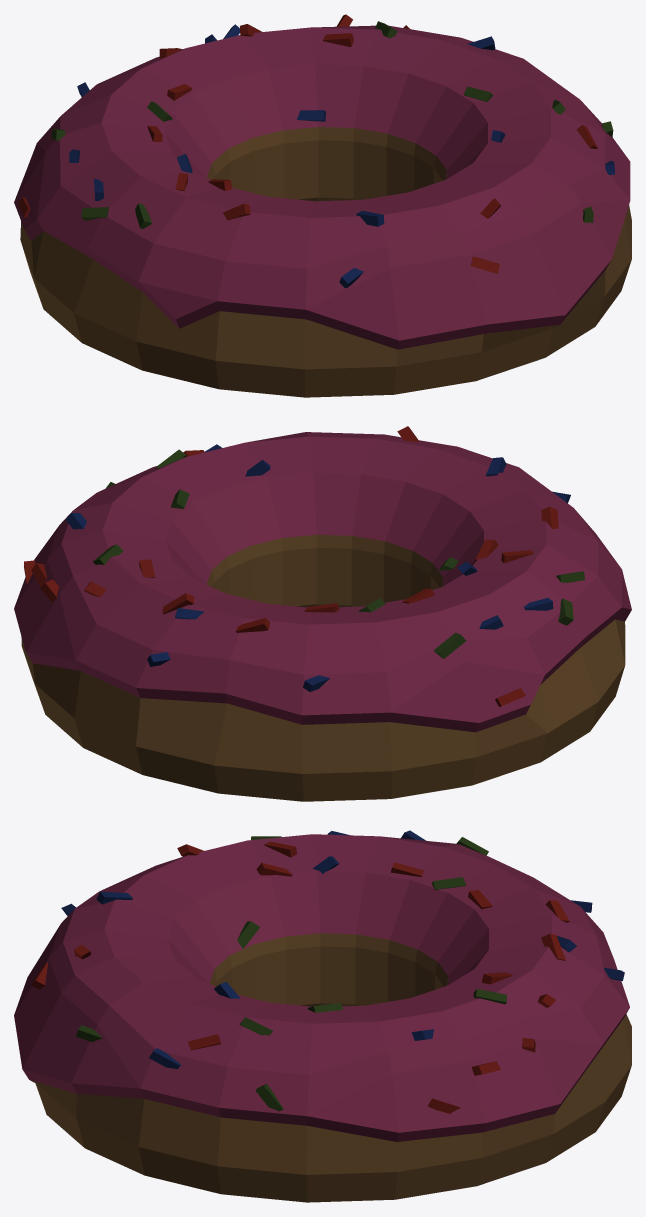
Rendered from Donut1.obj.
The picture shows the model from 3 angles, top to bottom: view 1: azimuth 30°, elevation 25°; view 2: azimuth 150°, elevation 25°; view 3: azimuth 270°, elevation 25°; orthographic projection.
Parts seen in each view (by area): view 1: Donut1_Torus; view 2: Donut1_Torus; view 3: Donut1_Torus.
Boxes of the visible parts, left/top/right/bottom form: Donut1_Torus: left=14, top=14, right=631, bottom=397; Donut1_Torus: left=14, top=426, right=631, bottom=801; Donut1_Torus: left=14, top=830, right=631, bottom=1202.
Size of the model in its own units: 0.8591 by 0.2914 by 0.8698.
